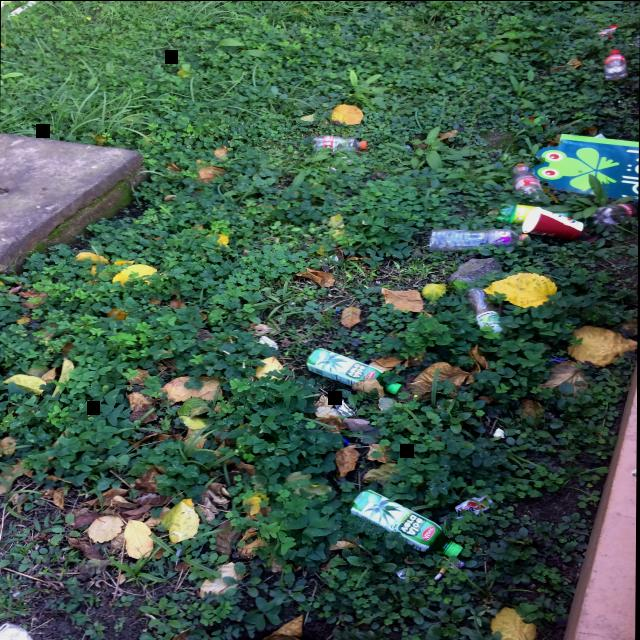Cigarette: (433, 566, 445, 581)
Clear plastic bottle: (348, 488, 463, 556), (304, 347, 401, 394), (429, 228, 528, 250), (465, 285, 502, 332), (592, 203, 637, 226), (510, 163, 543, 193), (495, 201, 536, 223), (313, 135, 366, 151), (603, 49, 626, 79), (634, 34, 640, 46)
Normal paper: (493, 427, 504, 438)
Other carton: (598, 24, 617, 37)
Other plastic: (455, 494, 493, 518), (335, 398, 356, 415)
Paper cup: (522, 206, 583, 240)
Plastic bottle cap: (361, 140, 366, 148), (523, 233, 528, 237)
Unlabeled litter: (532, 133, 639, 201)
